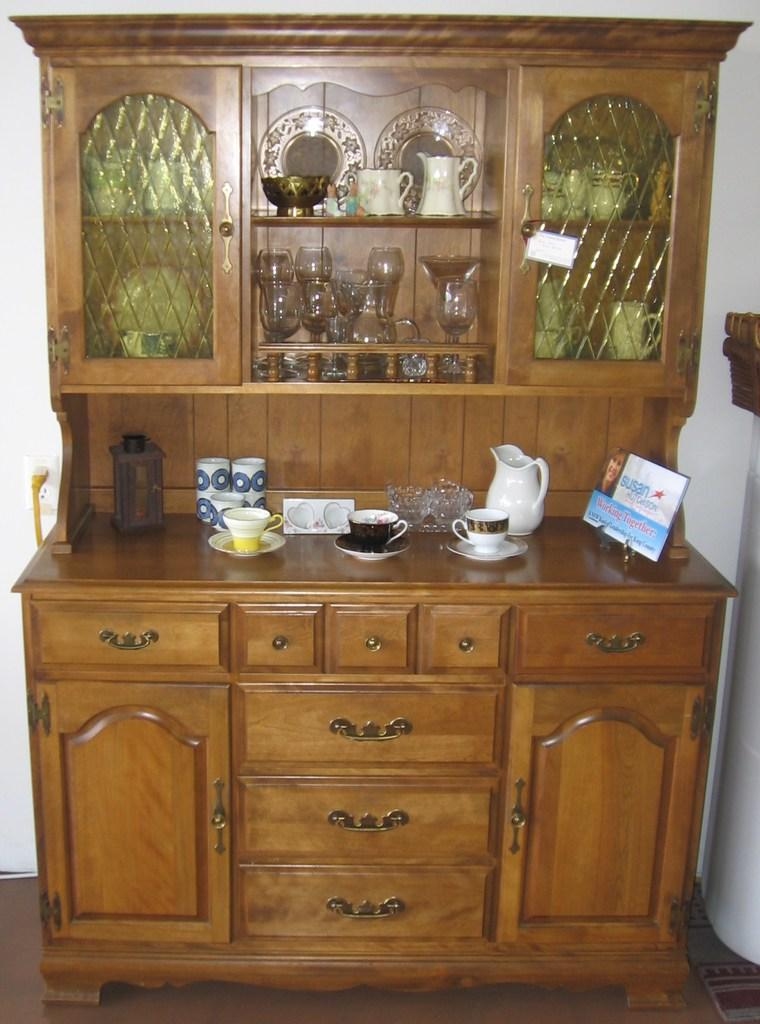cabinet_door: (54, 77, 242, 377), (39, 681, 228, 933), (504, 688, 680, 954), (236, 682, 497, 774), (232, 860, 497, 944), (234, 775, 497, 859), (520, 596, 717, 678), (34, 600, 230, 671), (420, 596, 514, 674), (235, 592, 318, 672), (330, 608, 412, 676)
handle: (330, 802, 408, 846), (331, 712, 415, 750), (328, 886, 404, 922), (588, 629, 646, 660), (104, 623, 164, 651), (510, 775, 523, 865), (220, 188, 234, 268), (209, 778, 224, 852), (520, 190, 532, 258), (270, 633, 287, 660), (367, 633, 381, 656), (461, 638, 476, 656)
